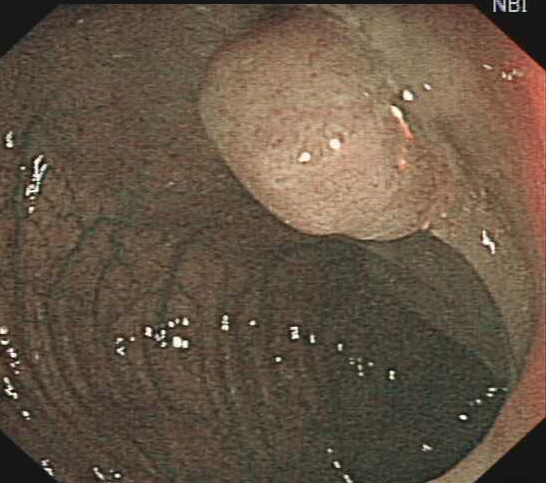adenoma: (194, 14, 457, 244)
